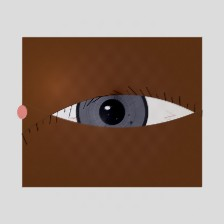pinguecula_lesion: (16, 90, 68, 131)
